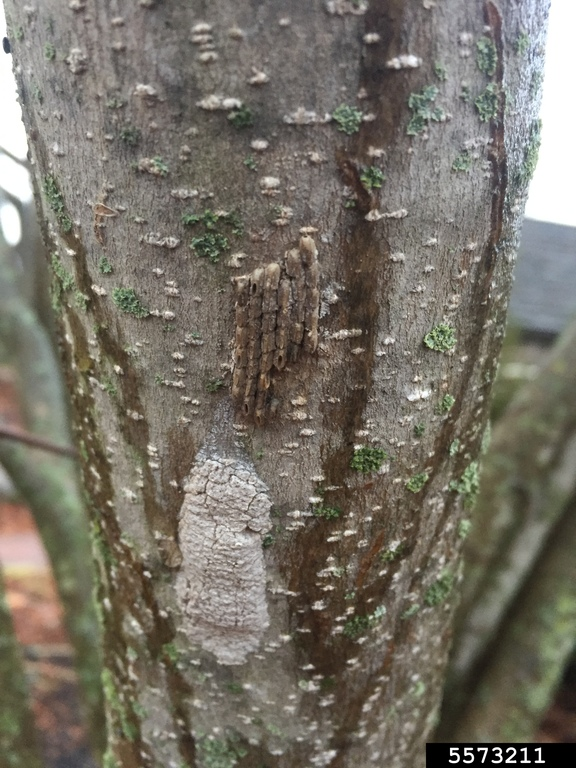egg masses: (159, 438, 276, 680), (222, 219, 332, 423)
